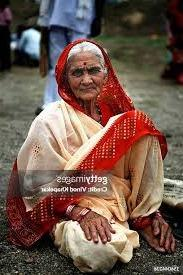Human: (23, 29, 168, 264)
